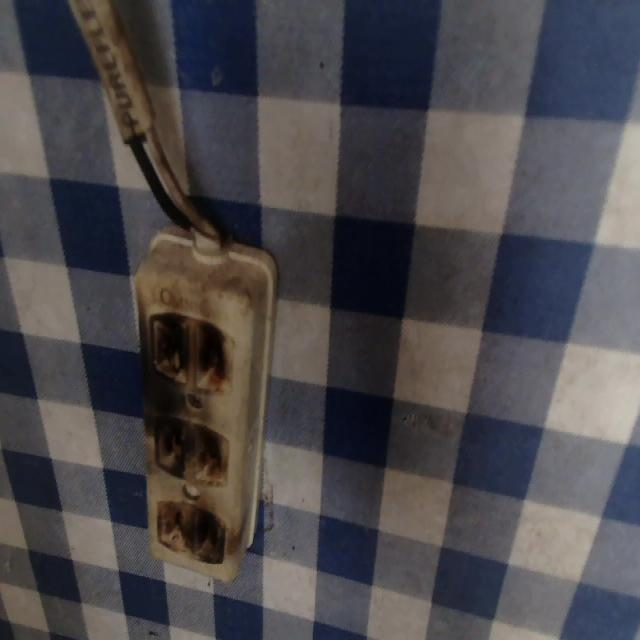-: (148, 310, 233, 394), (148, 412, 231, 489), (155, 494, 225, 566)
